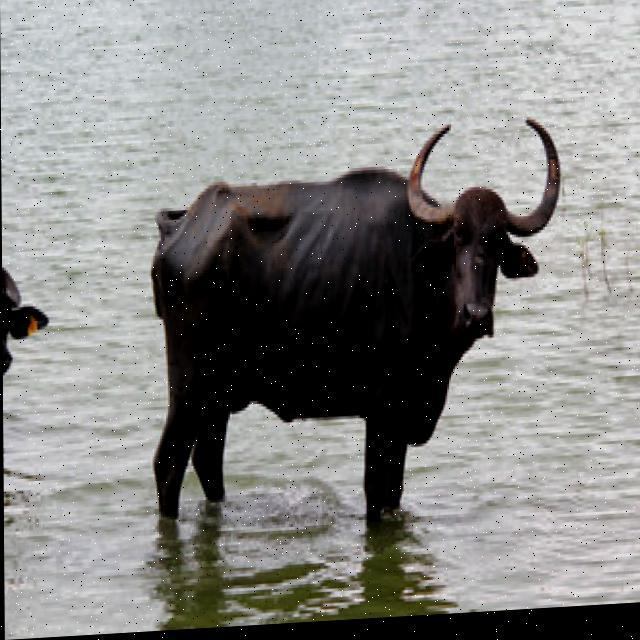Buffalo: (148, 107, 563, 525)
